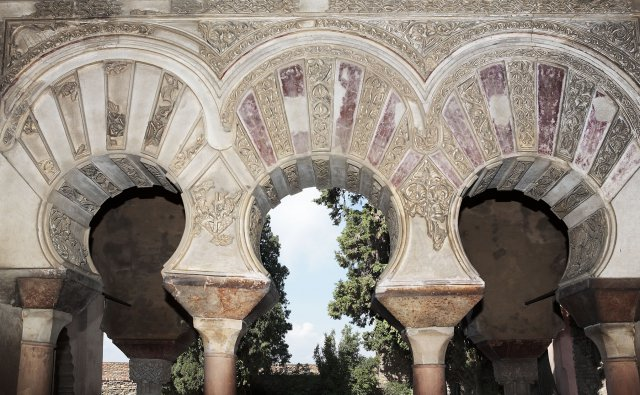arco-herradura: (228, 139, 420, 323), (437, 144, 620, 325), (22, 135, 205, 307)
